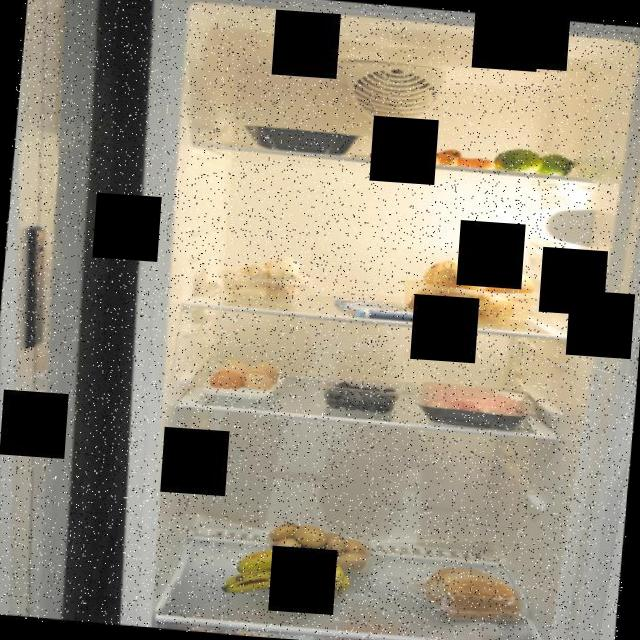Cebolla: (393, 252, 543, 331)
Champiñones: (214, 248, 306, 306)
Huevos: (209, 354, 283, 398)
Patata: (261, 516, 375, 572)
Plátano: (209, 540, 356, 608)
Zanahoria: (365, 138, 500, 170)
